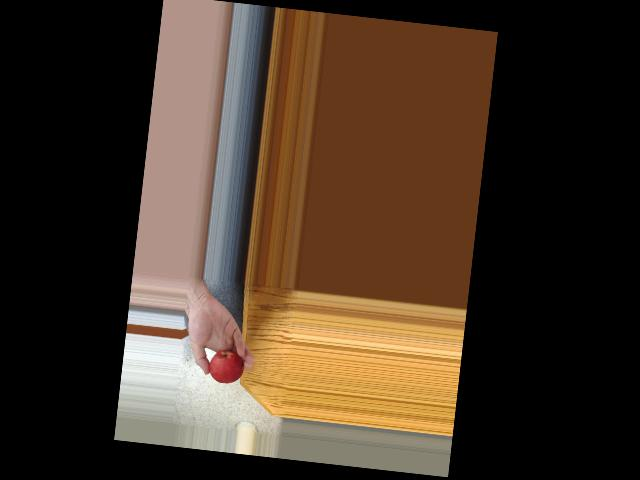apple: (209, 349, 246, 387)
